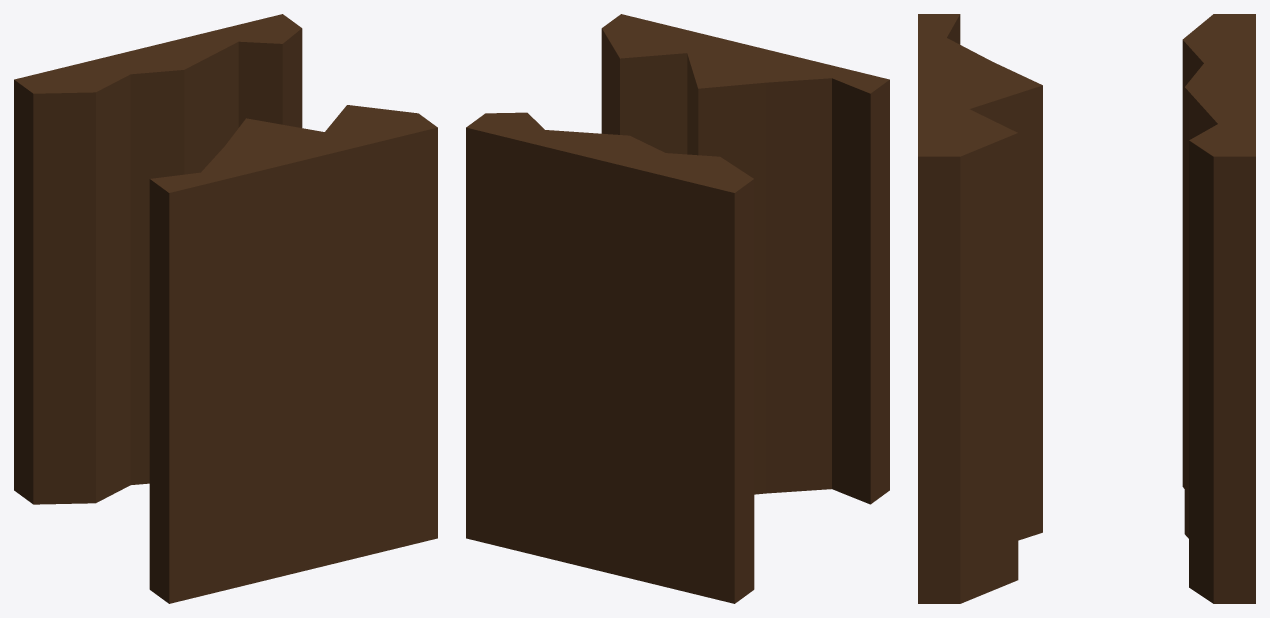
File: Ravine.glb
3 renders of one model, left to right at view 1: azimuth 30°, elevation 25°; view 2: azimuth 150°, elevation 25°; view 3: azimuth 270°, elevation 25°, orthographic. The views are drawn at different scales.
Parts seen in each view (by area): view 1: Cube.019; view 2: Cube.019; view 3: Cube.019.
Part boxes in pixels (bbox=[...]): Cube.019: bbox=[14, 14, 437, 603]; Cube.019: bbox=[466, 14, 889, 603]; Cube.019: bbox=[918, 14, 1255, 603].
Bounding box in the file's own units: 2 × 2.92 × 2.
1 material, 1 textured.
